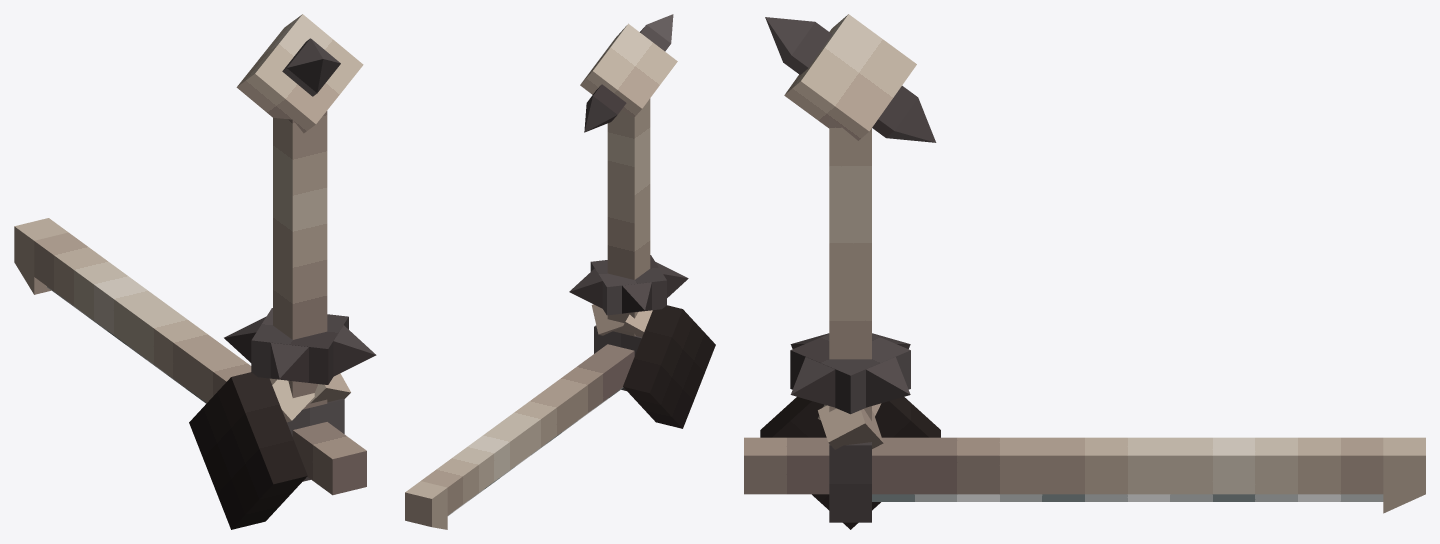
The model's file is arm_fisher_l.obj.
3 views of the same model, side by side, from view 1: azimuth 30°, elevation 25°; view 2: azimuth 150°, elevation 25°; view 3: azimuth 270°, elevation 25° (orthographic). The views are drawn at different scales.
Visible parts, largest first — view 1: ARM_LEFT_BONE_FISHER_Cube.421; view 2: ARM_LEFT_BONE_FISHER_Cube.421; view 3: ARM_LEFT_BONE_FISHER_Cube.421.
Boxes of the visible parts, left/top/right/bottom form: ARM_LEFT_BONE_FISHER_Cube.421: left=14, top=14, right=376, bottom=529; ARM_LEFT_BONE_FISHER_Cube.421: left=405, top=14, right=715, bottom=529; ARM_LEFT_BONE_FISHER_Cube.421: left=744, top=14, right=1425, bottom=529.
Bounding box in the file's own units: 0.2226 × 0.8658 × 1.
